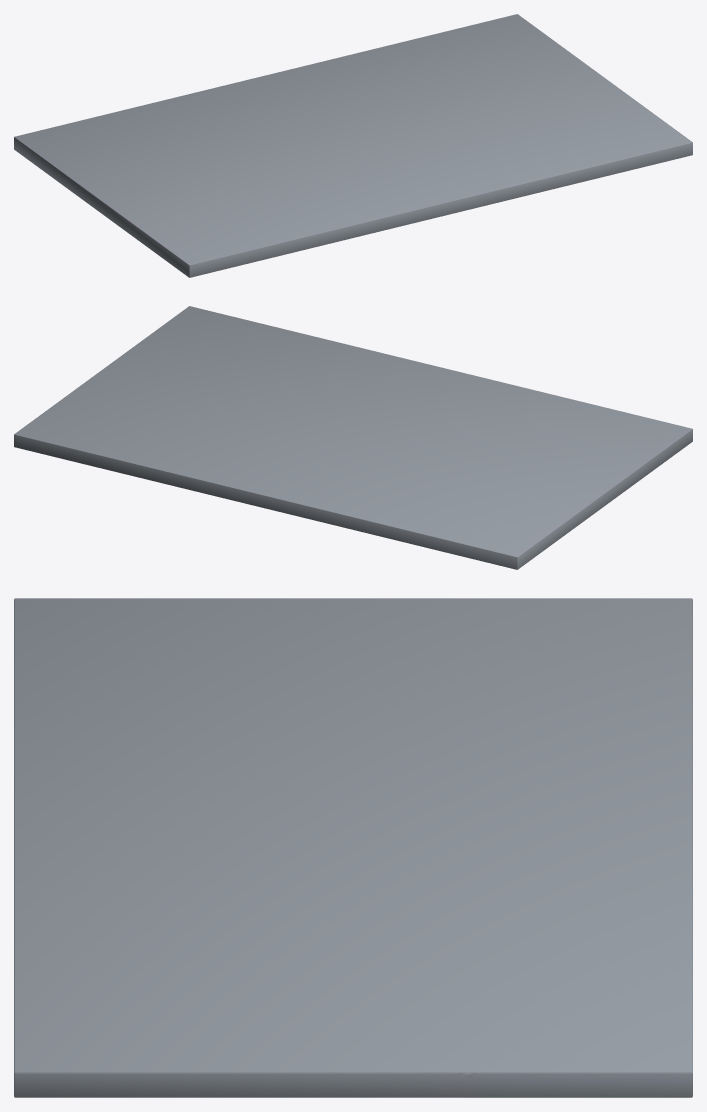
The model's file is cornisa_simple.glb.
3 views of the same model, one above another, from view 1: azimuth 30°, elevation 25°; view 2: azimuth 150°, elevation 25°; view 3: azimuth 270°, elevation 25° (orthographic). The views are drawn at different scales.
Parts seen in each view (by area): view 1: cornisa_simple; view 2: cornisa_simple; view 3: cornisa_simple.
Part boxes in pixels (x1,y1,x2,y2): cornisa_simple: (14, 14, 692, 277); cornisa_simple: (14, 306, 692, 569); cornisa_simple: (14, 598, 692, 1097).
Size of the model in its own units: 20.2 by 0.5 by 12.2.
1 material, 1 textured.
